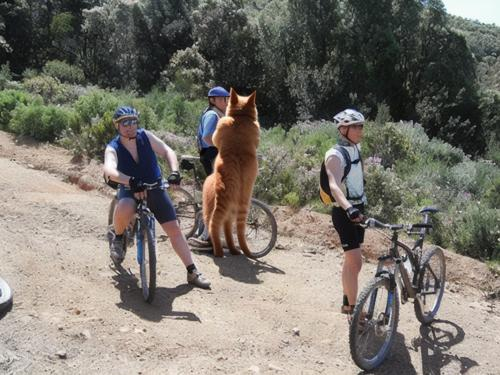bicycle: (352, 207, 447, 372), (165, 158, 278, 259), (107, 174, 172, 304)
cat: (200, 87, 259, 255)
person: (106, 107, 210, 288), (325, 110, 366, 316)
person/foot: (110, 238, 126, 263), (187, 271, 211, 287), (341, 306, 368, 316)
person/hand: (130, 178, 147, 201), (347, 208, 362, 222), (169, 173, 181, 189)
person/head: (115, 106, 139, 138), (338, 111, 362, 142)
